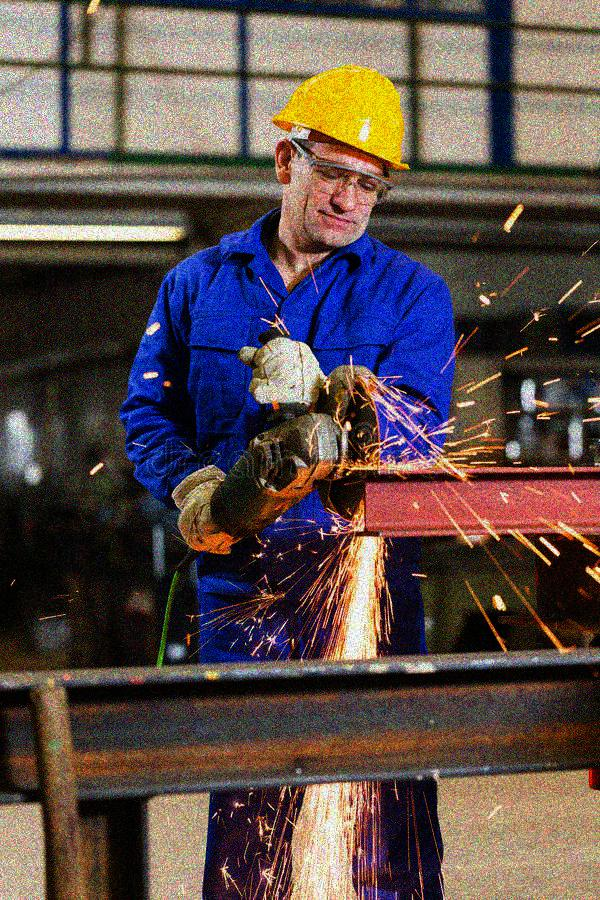helmet: (272, 63, 412, 251)
